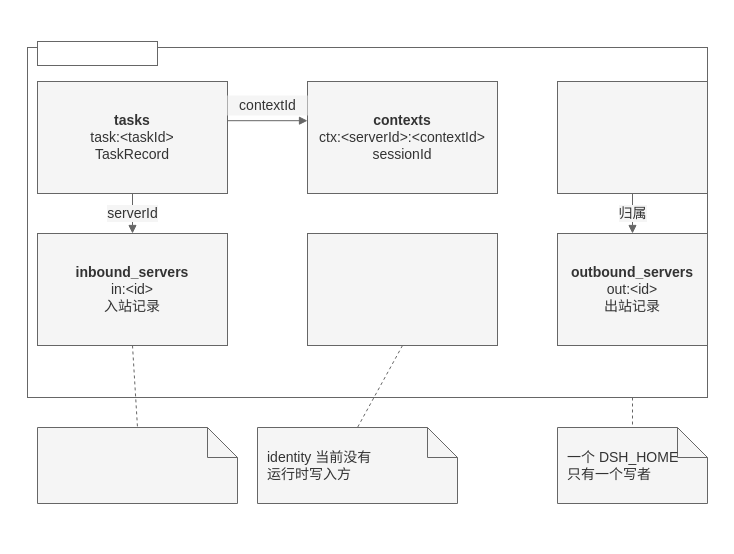
Image size: 734x554. Some labels were removed from this diagram. The box of each missing label's shape, as (x1, y1, x2, y2) in pixels:
a2a 域 · v1: (36, 40, 158, 66)
agents out:<outboundId> agent 记录数组: (556, 80, 708, 194)
identity service 卡片身份: (306, 232, 498, 346)
删除写空字符串， list 跳过空值与坏记录: (36, 426, 238, 504)
